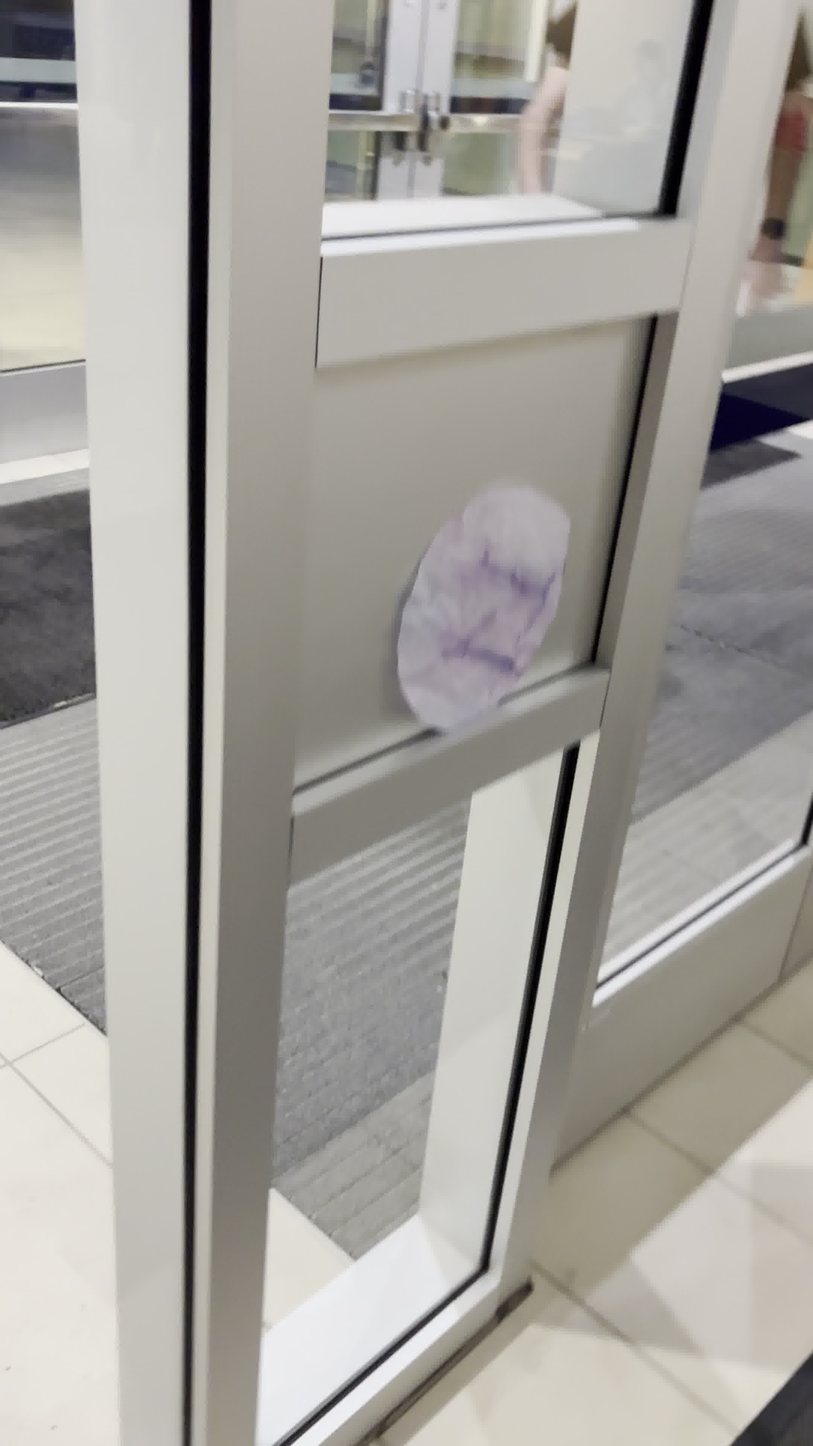Target: (390, 476, 575, 735)
